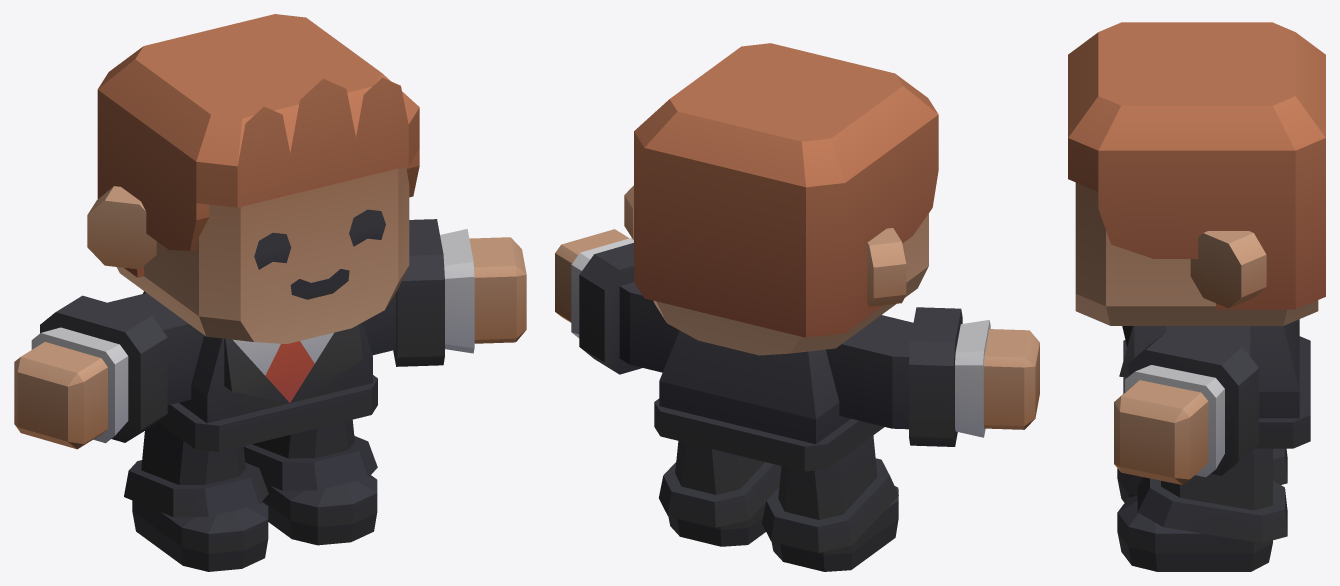
File: citizen-male-d.glb
3 views of the same model, side by side, from view 1: azimuth 30°, elevation 25°; view 2: azimuth 150°, elevation 25°; view 3: azimuth 270°, elevation 25° (orthographic). The views are drawn at different scales.
Parts seen in each view (by area): view 1: citizen-male-d; view 2: citizen-male-d; view 3: citizen-male-d.
Part boxes in pixels (x1=…): citizen-male-d: x1=14, y1=14, x2=526, y2=571; citizen-male-d: x1=555, y1=43, x2=1039, y2=571; citizen-male-d: x1=1068, y1=22, x2=1325, y2=571.
Size of the model in its own units: 1.06 by 1 by 0.471.
